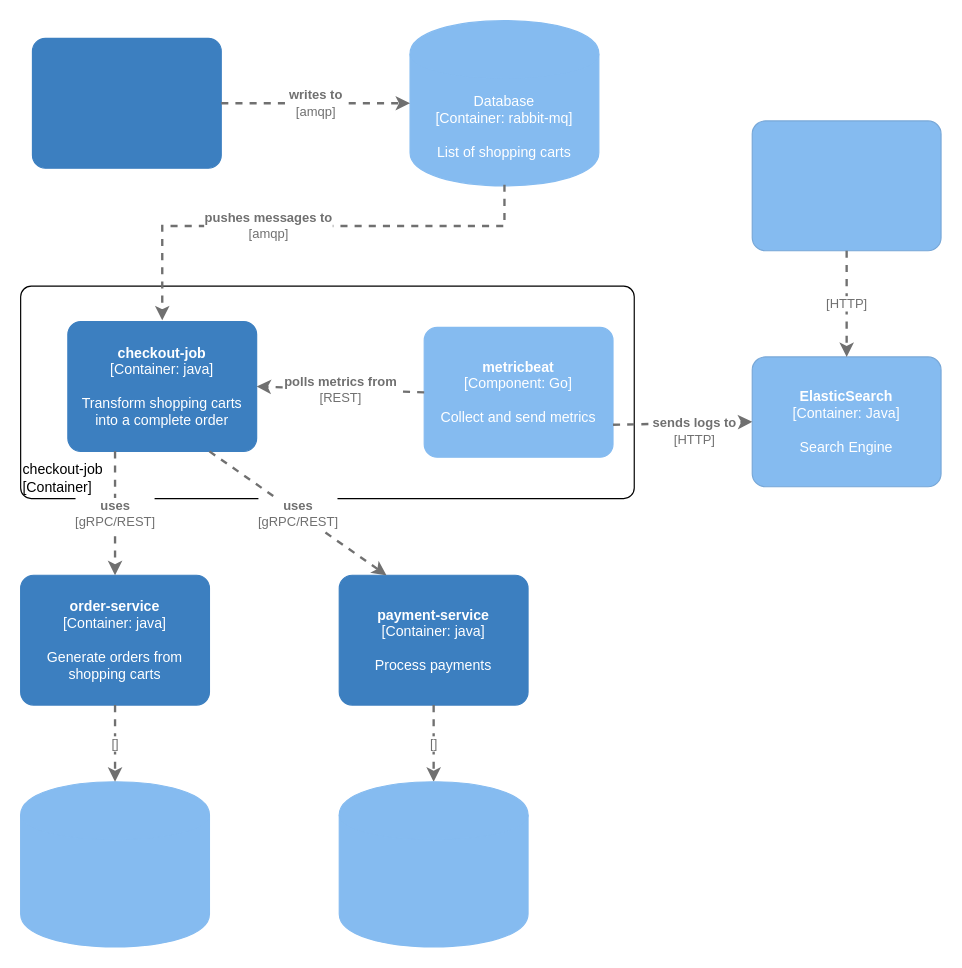
Image size: 962x968. Some labels were removed from this diagram. The shapes that lost their labels are listed below. From the top down, each one's centre as x and y in pixels, then its label:
(x=126, y=102): management-service [Container: Java] Generate sample shopping carts
(x=846, y=185): Kibana [Container: Javascript] Dashboards
(x=114, y=864): Database [Container: MongoDb] Store clients, products and orders
(x=433, y=864): Database [Container: MongoDb] Store clients, cards and receipts
